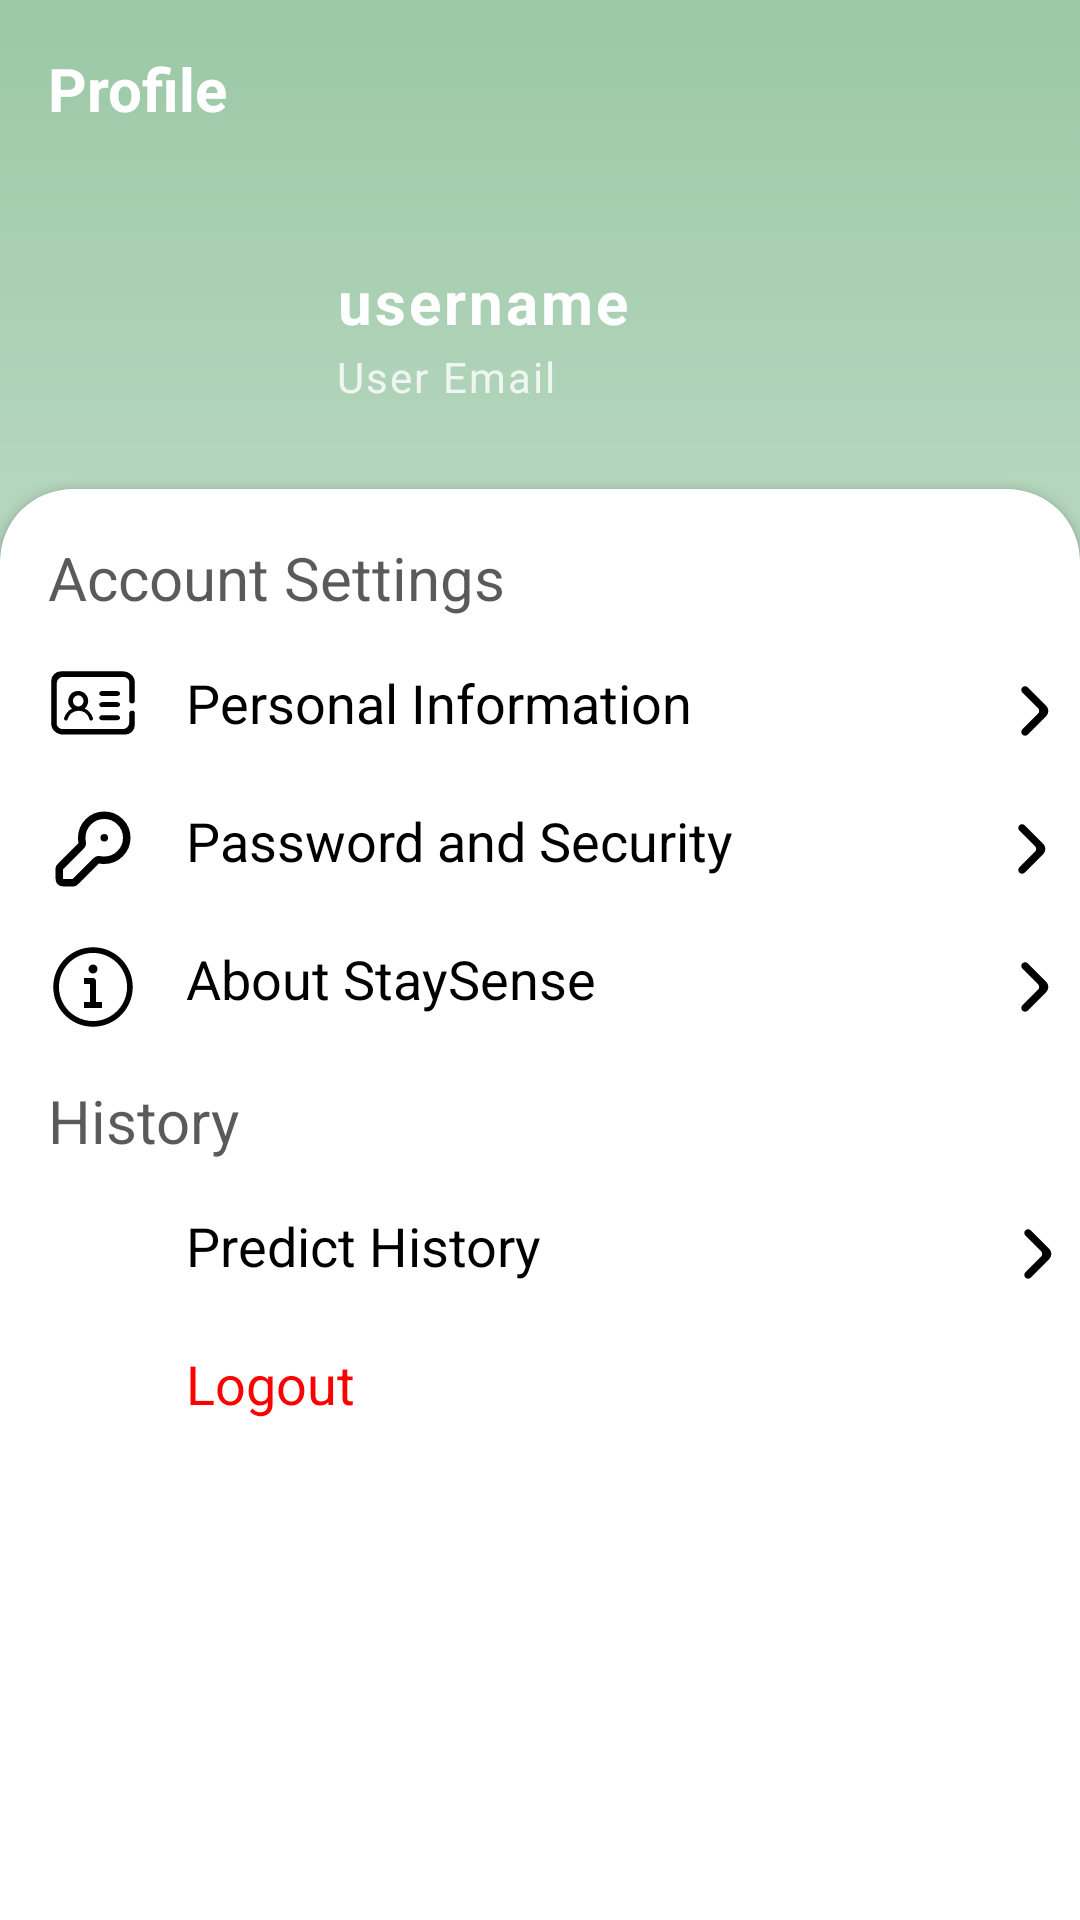

Icon bounding boxes for this 1080×1920 phone screenshot, format (x1, y1, x2, y2):
zinfo: (53, 947, 133, 1027)
zkey: (55, 811, 131, 887)
zpersonal: (51, 671, 135, 735)
